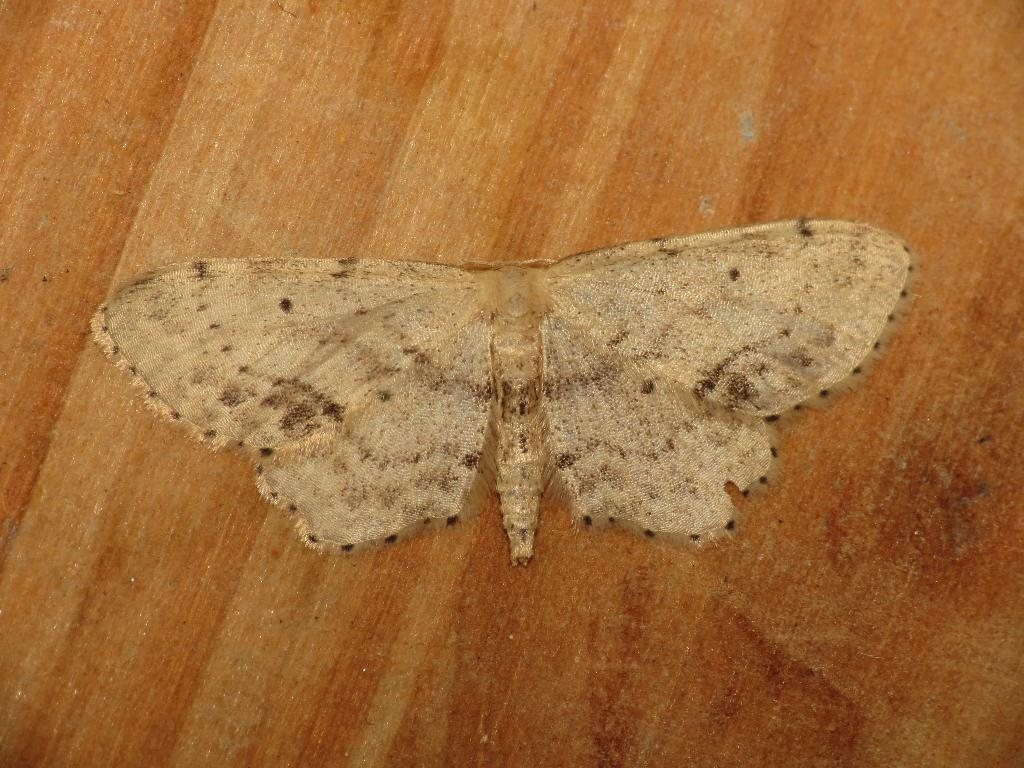Butterfly: (75, 209, 932, 566)
